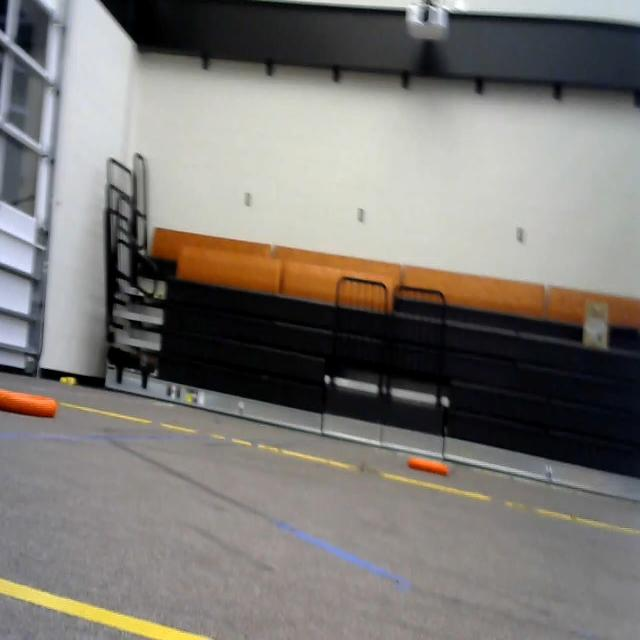note: (0, 385, 61, 424), (405, 446, 456, 483)
